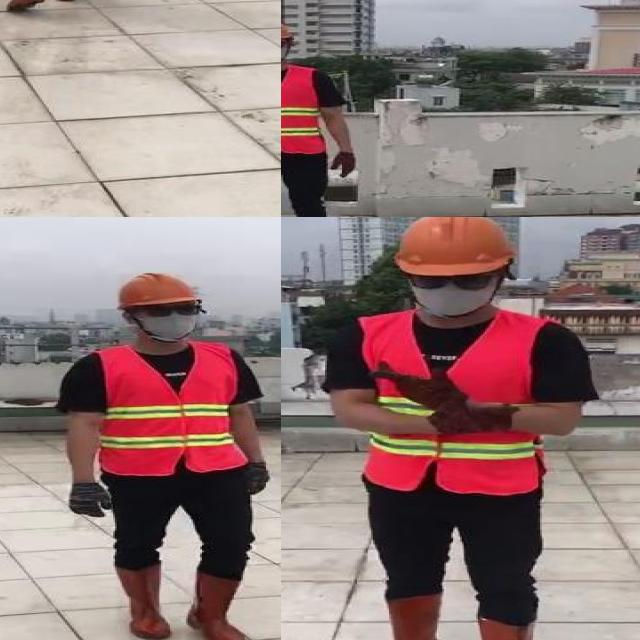boots: (109, 562, 177, 640), (186, 568, 252, 640), (364, 594, 442, 640), (474, 618, 547, 640)
face_mask: (408, 266, 498, 316), (140, 297, 204, 338)
glasses: (405, 270, 499, 294), (140, 300, 207, 321)
hand_glove: (378, 364, 514, 432), (65, 481, 113, 520), (241, 459, 273, 497), (333, 151, 356, 177)
head_helmet: (381, 217, 519, 277), (109, 269, 204, 310), (281, 17, 292, 42)
person: (329, 217, 569, 640), (47, 269, 278, 640), (281, 14, 361, 217)
vest: (357, 308, 544, 496), (88, 344, 246, 473), (281, 67, 324, 156)
